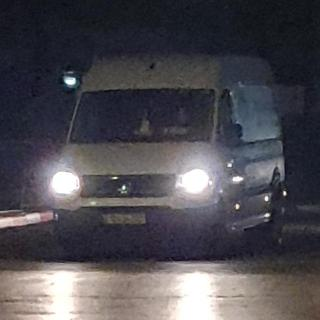LicensePlate: (107, 214, 146, 223)
